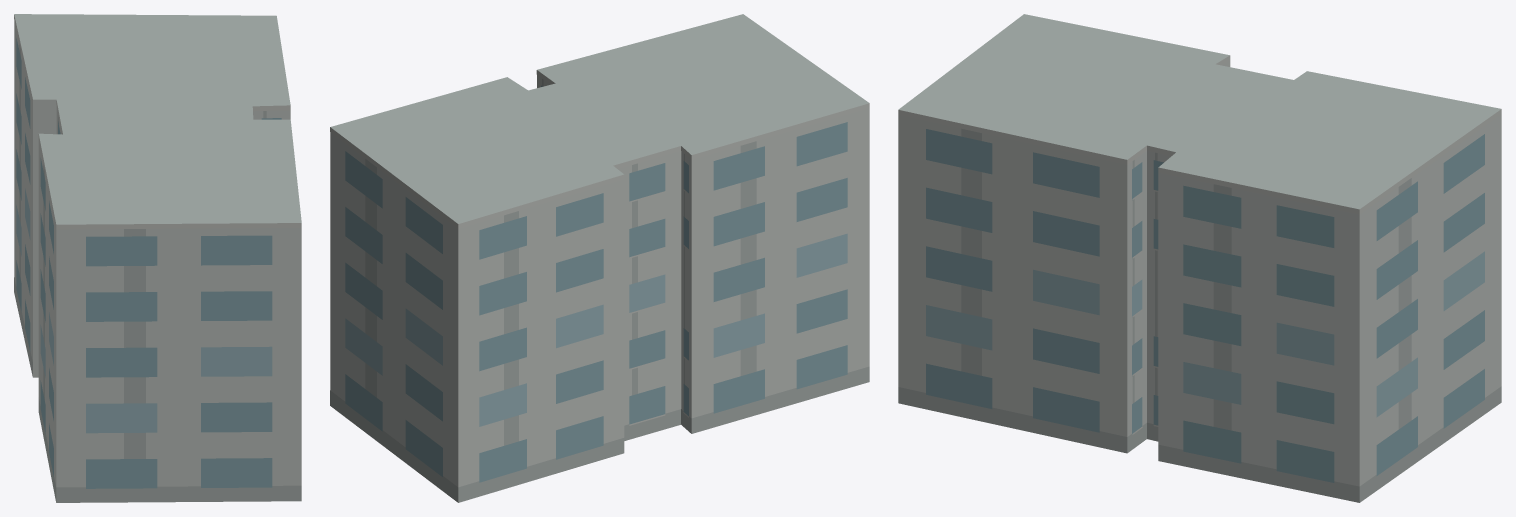
Rendered from survey-upis-33034643.glb.
3 views of the same model, side by side, from view 1: azimuth 30°, elevation 25°; view 2: azimuth 150°, elevation 25°; view 3: azimuth 270°, elevation 25° (orthographic). The views are drawn at different scales.
Parts seen in each view (by area): view 1: survey-upis-33034643.tmp; view 2: survey-upis-33034643.tmp; view 3: survey-upis-33034643.tmp.
Boxes of the visible parts, bbox=[...] form: survey-upis-33034643.tmp: bbox=[14, 14, 301, 502]; survey-upis-33034643.tmp: bbox=[330, 14, 869, 502]; survey-upis-33034643.tmp: bbox=[898, 14, 1501, 502].
Bounding box in the file's own units: 19.78 × 13.85 × 25.81.
